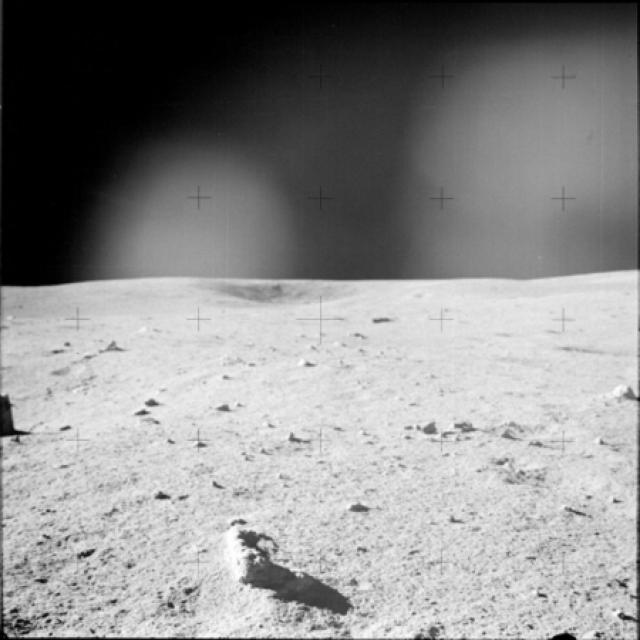crater: (202, 272, 370, 316)
rock: (216, 517, 283, 589), (593, 374, 639, 414), (448, 414, 480, 441), (414, 413, 442, 442), (93, 337, 122, 358)
